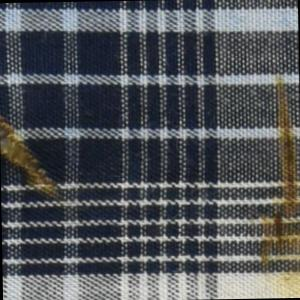Damage: (1, 117, 48, 199)
Oil Stain: (247, 70, 300, 299), (1, 108, 69, 211)
